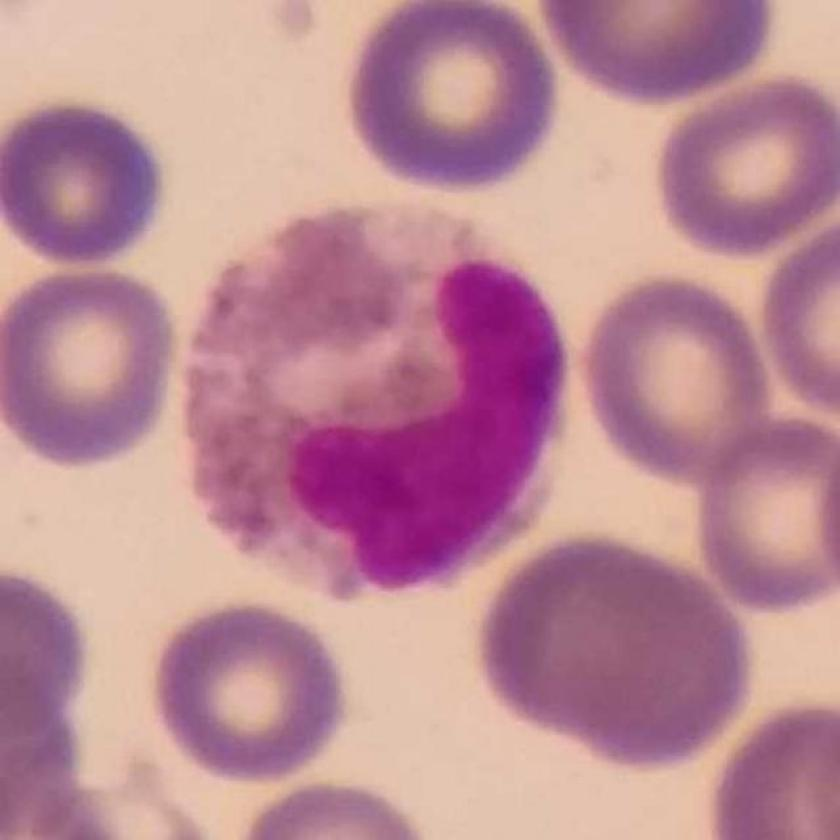eosinophil: (185, 197, 576, 601)
